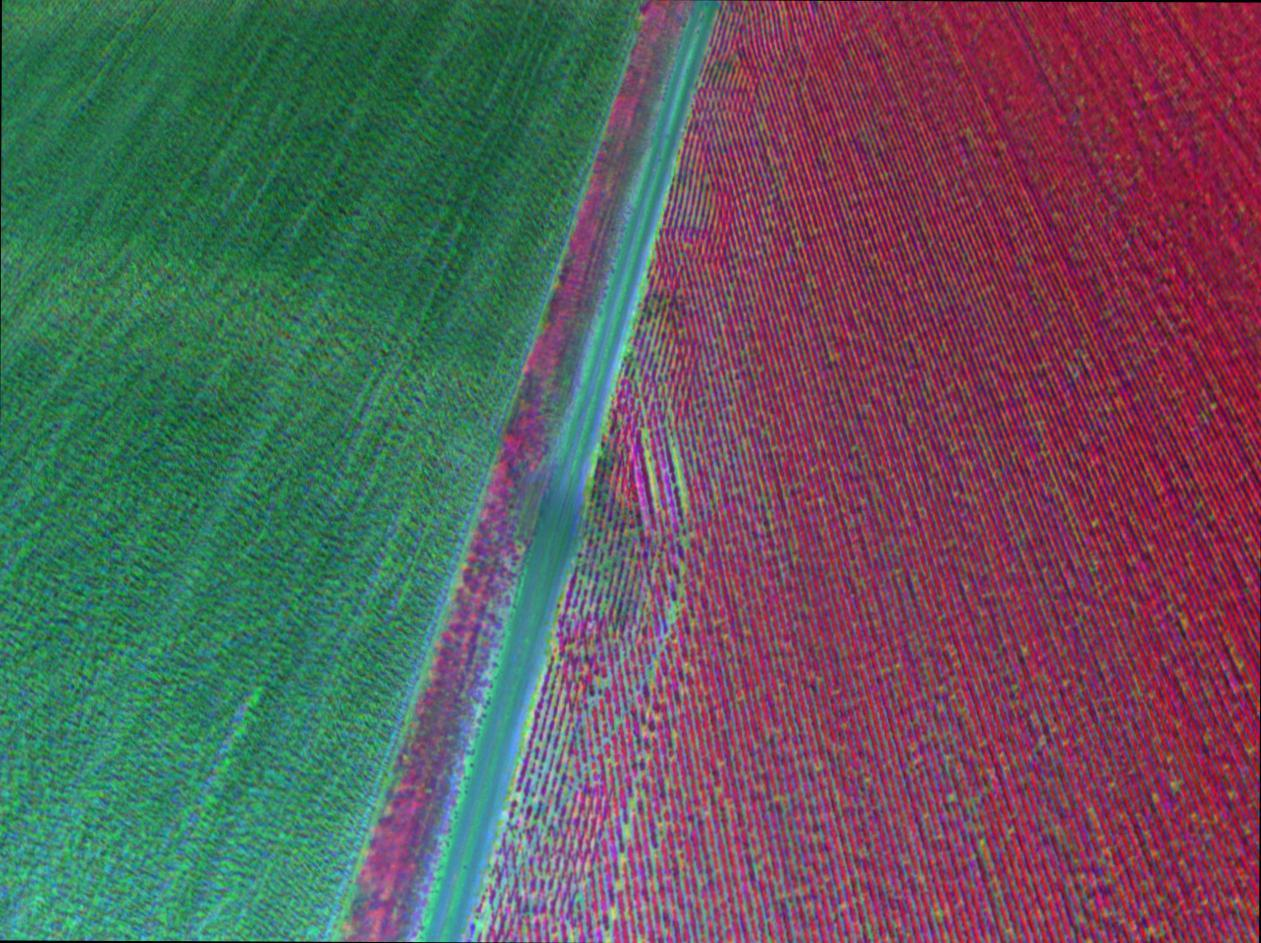dc: (665, 608, 674, 620), (622, 825, 631, 837), (646, 668, 654, 678), (616, 881, 623, 891), (610, 909, 617, 919), (1180, 619, 1188, 627), (1172, 784, 1178, 791), (606, 933, 611, 941), (619, 855, 626, 860)
